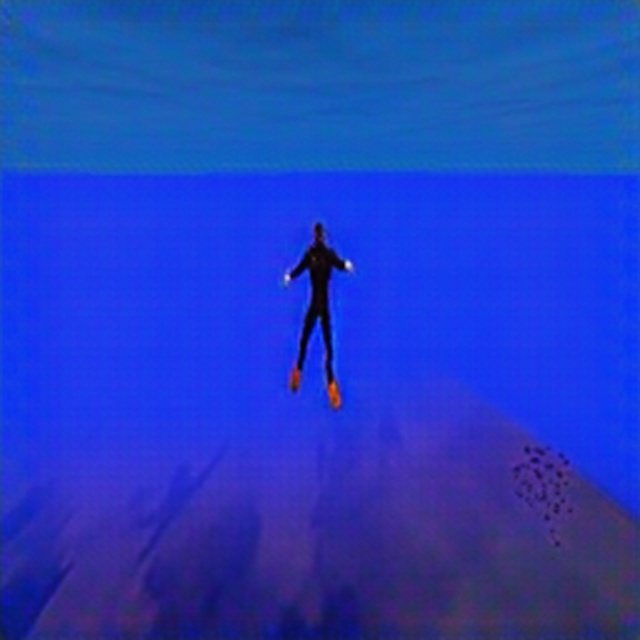diver: (280, 218, 355, 410)
